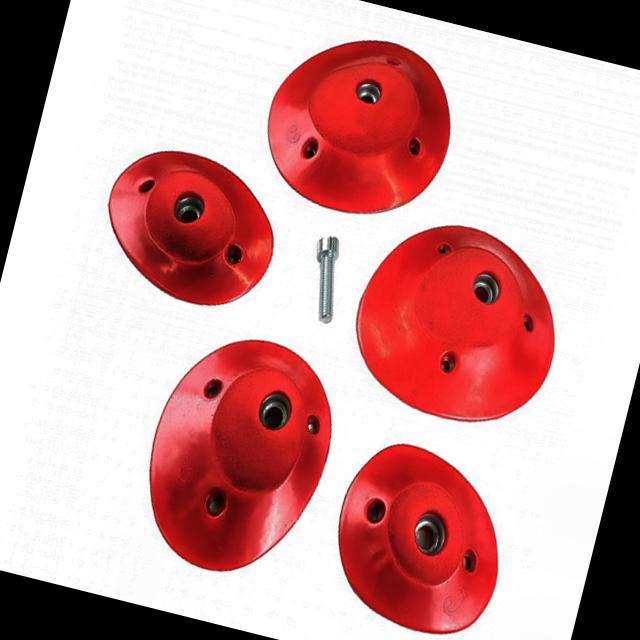Hold: (330, 206, 586, 446), (126, 322, 351, 592), (250, 16, 468, 232), (316, 431, 525, 640), (91, 138, 289, 320)
